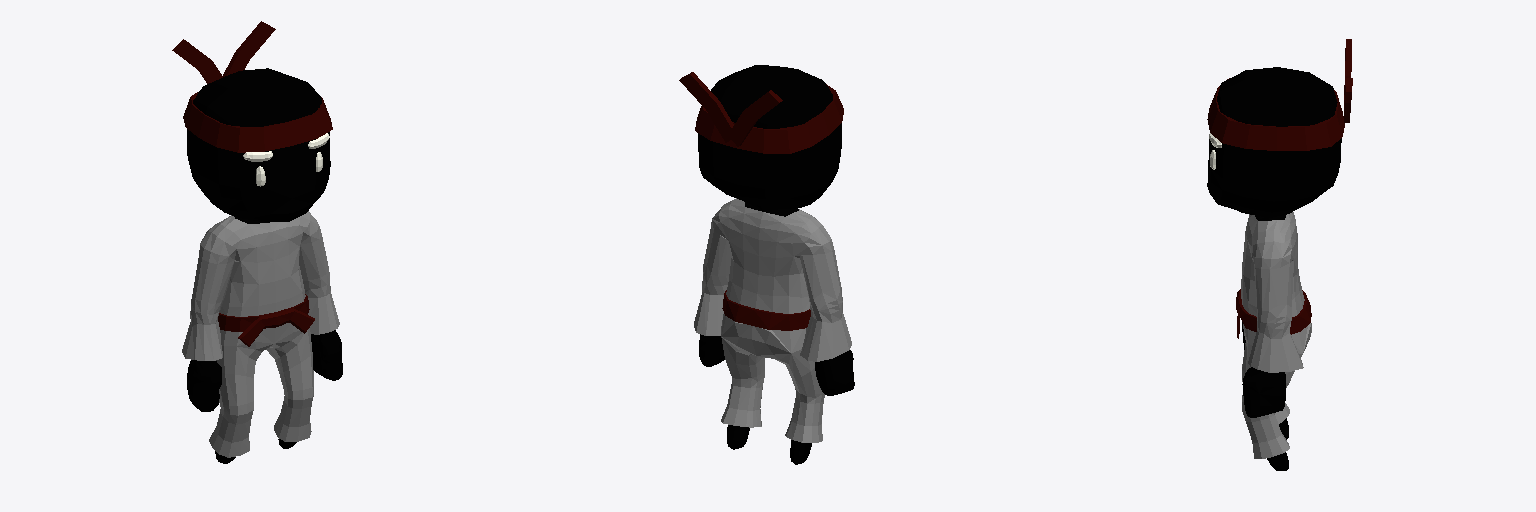
Rendered from kimono.obj.
3 views of the same model, side by side, from view 1: azimuth 30°, elevation 25°; view 2: azimuth 150°, elevation 25°; view 3: azimuth 270°, elevation 25° (orthographic).
Parts seen in each view (by area): view 1: Body; view 2: Body; view 3: Body.
Part boxes in pixels (x1,y1,x2,y2): Body: (172, 21, 342, 463); Body: (679, 65, 854, 464); Body: (1207, 39, 1352, 470).
Size of the model in its own units: 1.31 by 3.27 by 1.08.